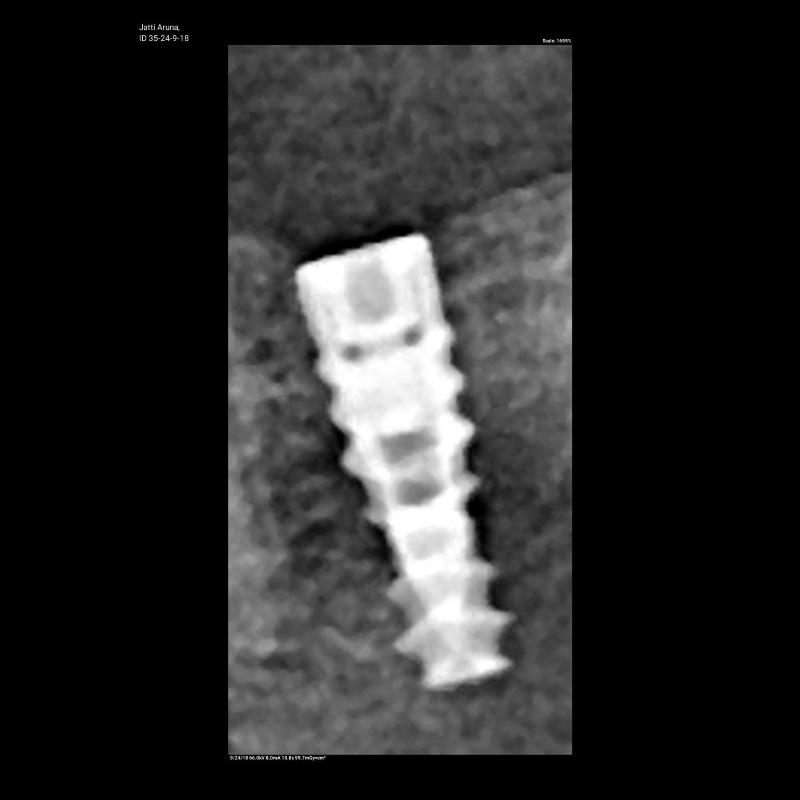NORIS: (284, 225, 518, 695)
